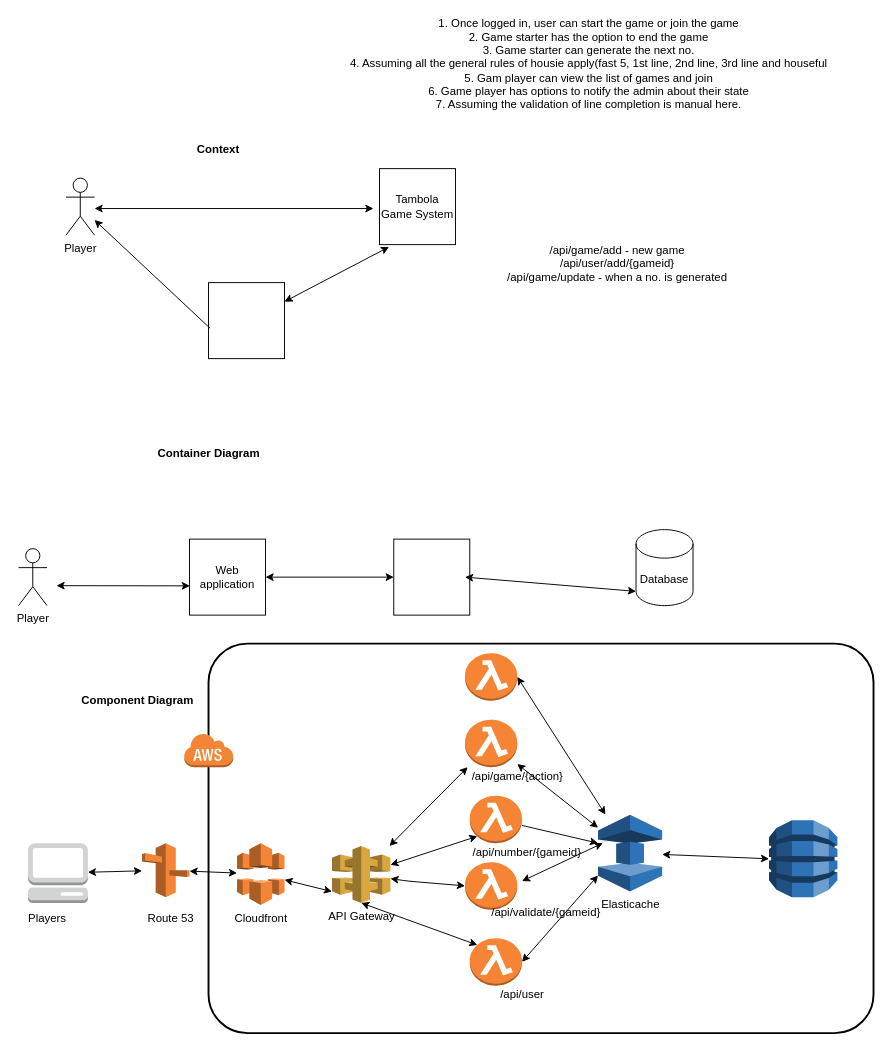
The diagram is 890 pixels wide and 1051 high, and some of its shapes have lost their labels. Here are the shapes that lost their labels. From the top down, the centre of each, then its label:
At [246,320]: "Message System".
At [431,576]: "API Layer".
At [490,676]: "/api/token/{gameid}".
At [802,858]: "DynamoDB".
